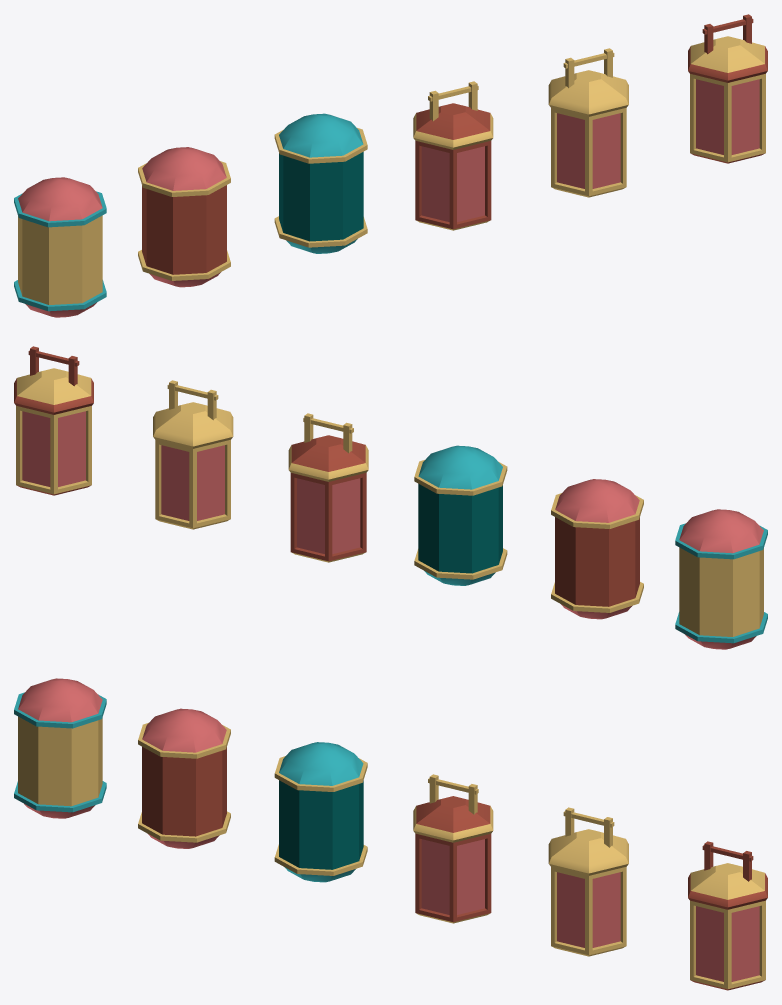
Rendered from lanternas.fbx.
3 views of the same model, one above another, from view 1: azimuth 30°, elevation 25°; view 2: azimuth 150°, elevation 25°; view 3: azimuth 330°, elevation 25° (orthographic).
Parts seen in each view (by area): view 1: pCylinder10, pCylinder6, pCylinder9, pCube11, pCylinder11, pCube10; view 2: pCylinder10, pCylinder6, pCylinder9, pCube11, pCylinder11, pCube10; view 3: pCylinder6, pCylinder10, pCylinder9, pCube11, pCylinder11, pCube10.
Boxes of the visible parts, x1=… form: pCylinder10: x1=14, y1=177, x2=106, y2=317; pCylinder6: x1=274, y1=113, x2=367, y2=253; pCylinder9: x1=138, y1=147, x2=230, y2=287; pCube11: x1=413, y1=81, x2=493, y2=230; pCylinder11: x1=548, y1=48, x2=628, y2=197; pCube10: x1=688, y1=14, x2=767, y2=163; pCylinder10: x1=675, y1=509, x2=767, y2=649; pCylinder6: x1=414, y1=445, x2=507, y2=585; pCylinder9: x1=551, y1=479, x2=643, y2=619; pCube11: x1=288, y1=413, x2=368, y2=562; pCylinder11: x1=153, y1=380, x2=233, y2=529; pCube10: x1=14, y1=346, x2=93, y2=495; pCylinder6: x1=274, y1=742, x2=367, y2=882; pCylinder10: x1=14, y1=678, x2=106, y2=818; pCylinder9: x1=138, y1=708, x2=230, y2=848; pCube11: x1=413, y1=774, x2=493, y2=923; pCylinder11: x1=548, y1=807, x2=628, y2=956; pCube10: x1=688, y1=841, x2=767, y2=990.
Bounding box in the file's own units: 19.74 × 3.43 × 2.19.
5 materials, 5 textured.
